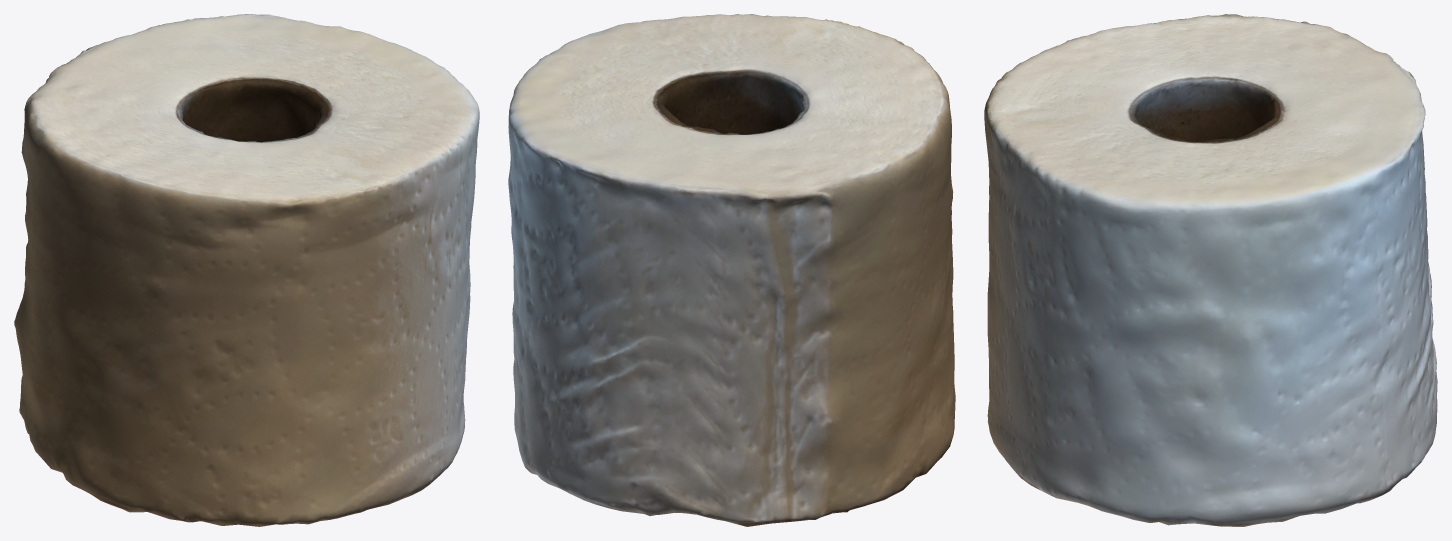
Rendered from toilet_paper.obj.
3 renders of one model, left to right at view 1: azimuth 30°, elevation 25°; view 2: azimuth 150°, elevation 25°; view 3: azimuth 270°, elevation 25°, orthographic.
Size of the model in its own units: 0.122 by 0.1021 by 0.1227.
1 material, 1 textured.
